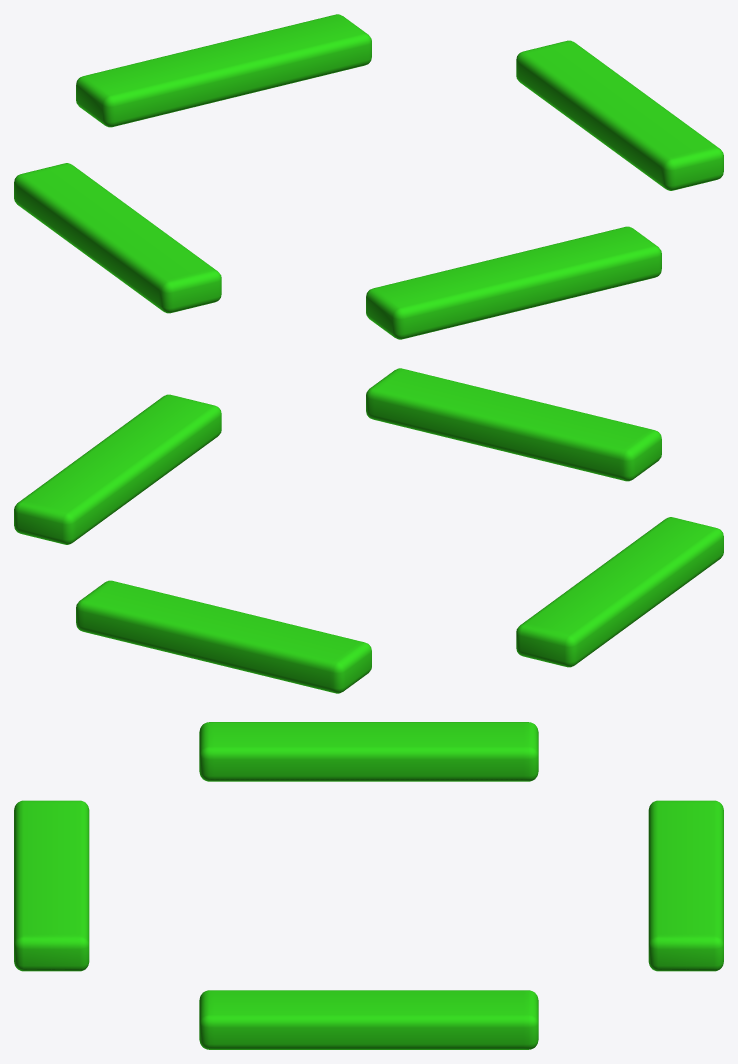
The model's file is cerceve_kare.fbx.
3 views of the same model, one above another, from view 1: azimuth 30°, elevation 25°; view 2: azimuth 150°, elevation 25°; view 3: azimuth 270°, elevation 25° (orthographic). The views are drawn at different scales.
Parts seen in each view (by area): view 1: ChamferBox018, ChamferBox021, ChamferBox019, ChamferBox020; view 2: ChamferBox018, ChamferBox021, ChamferBox019, ChamferBox020; view 3: ChamferBox019, ChamferBox020, ChamferBox018, ChamferBox021.
Part boxes in pixels (bbox=[...]): ChamferBox018: bbox=[76, 14, 371, 127]; ChamferBox021: bbox=[366, 226, 661, 339]; ChamferBox019: bbox=[14, 163, 221, 313]; ChamferBox020: bbox=[516, 40, 723, 190]; ChamferBox018: bbox=[76, 580, 371, 693]; ChamferBox021: bbox=[366, 368, 661, 481]; ChamferBox019: bbox=[516, 517, 723, 667]; ChamferBox020: bbox=[14, 394, 221, 544]; ChamferBox019: bbox=[199, 722, 538, 781]; ChamferBox020: bbox=[199, 990, 538, 1049]; ChamferBox018: bbox=[648, 800, 723, 971]; ChamferBox021: bbox=[14, 800, 89, 971].
Bounding box in the file's own units: 188 × 10 × 188.
